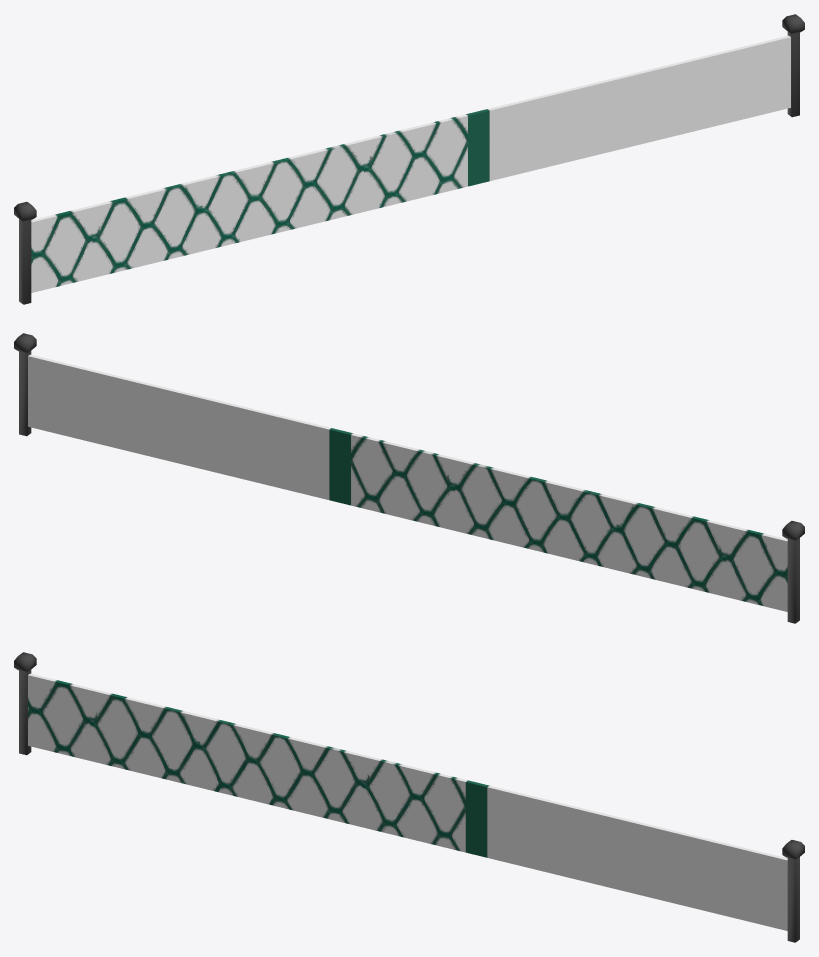
Rendered from Tennis Net.fbx.
3 views of the same model, one above another, from view 1: azimuth 30°, elevation 25°; view 2: azimuth 150°, elevation 25°; view 3: azimuth 330°, elevation 25° (orthographic).
Parts seen in each view (by area): view 1: Plane, Plane.004; view 2: Plane, Plane.004; view 3: Plane, Plane.004.
Boxes of the visible parts, x1,y1,x2,y2 form: Plane: (31, 35, 790, 292); Plane.004: (14, 14, 804, 304); Plane: (28, 354, 787, 611); Plane.004: (14, 333, 804, 623); Plane: (28, 673, 787, 930); Plane.004: (14, 652, 804, 942).
Size of the model in its own units: 102217 by 12167 by 1868.
